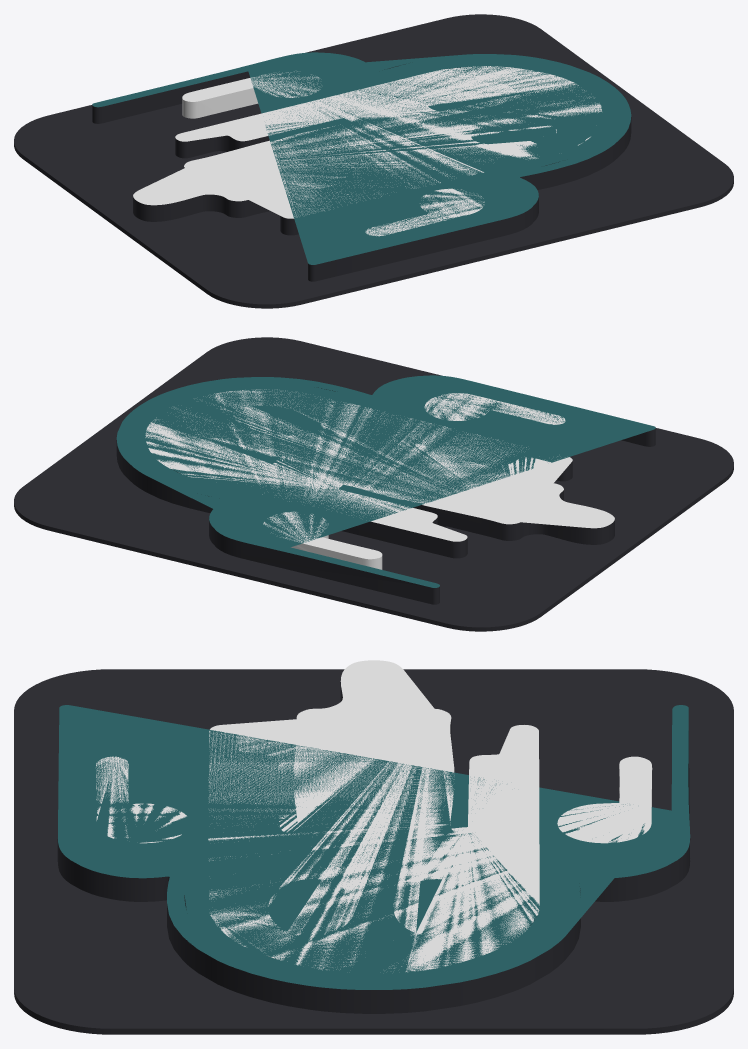
Rendered from Ghost_powerUp.fbx.
3 renders of one model, top to bottom at view 1: azimuth 30°, elevation 25°; view 2: azimuth 150°, elevation 25°; view 3: azimuth 270°, elevation 25°, orthographic. The views are drawn at different scales.
Visible parts, largest first — view 1: Ghost; view 2: Ghost; view 3: Ghost.
Boxes of the visible parts, bbox=[...] form: Ghost: bbox=[14, 14, 733, 308]; Ghost: bbox=[14, 337, 733, 631]; Ghost: bbox=[14, 660, 733, 1034].
Bounding box in the file's own units: 1300 × 50 × 1100.
